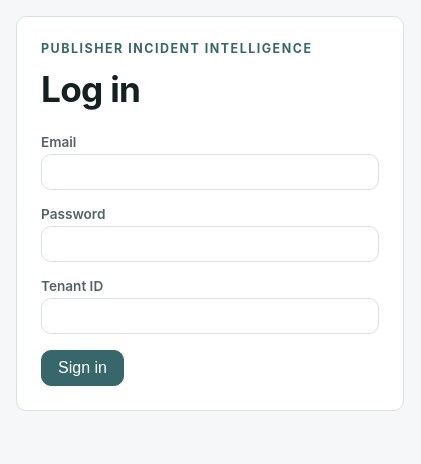
LoginPage › shows a generic failure for invalid credentials without existence hints
Type "whoever@example.com" into the field labelled "Email" at (210,172), box [41,154,379,190]
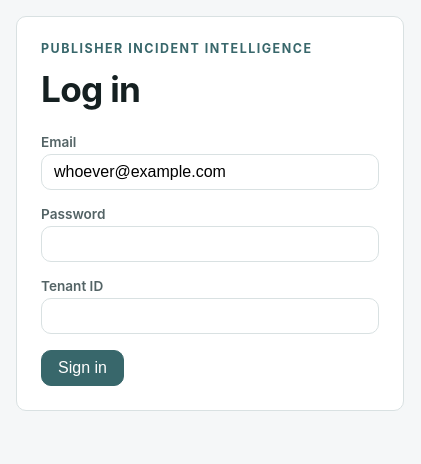
Type "some-password" into the password field labelled "Password" at (210,244), box [41,226,379,262]
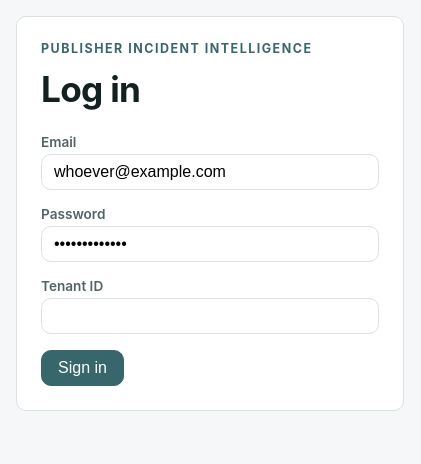
Type "t-1" into the field labelled "Tenant ID" at (210,316), box [41,298,379,334]
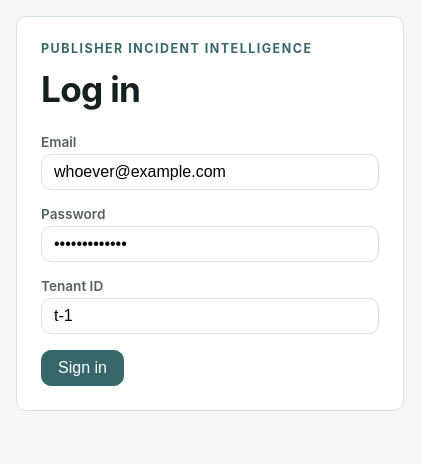
Click the button "Sign in" at (82,368), box [41,350,124,386]
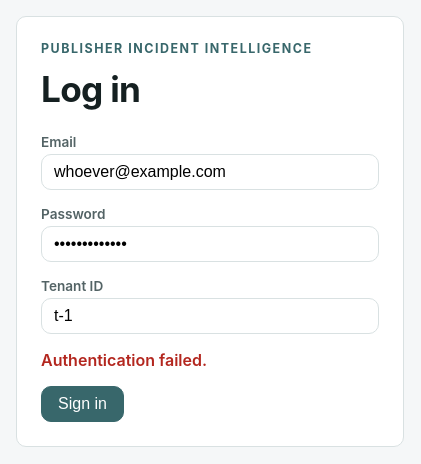
Now the message shows "Authentication failed", box [41,350,207,370]
